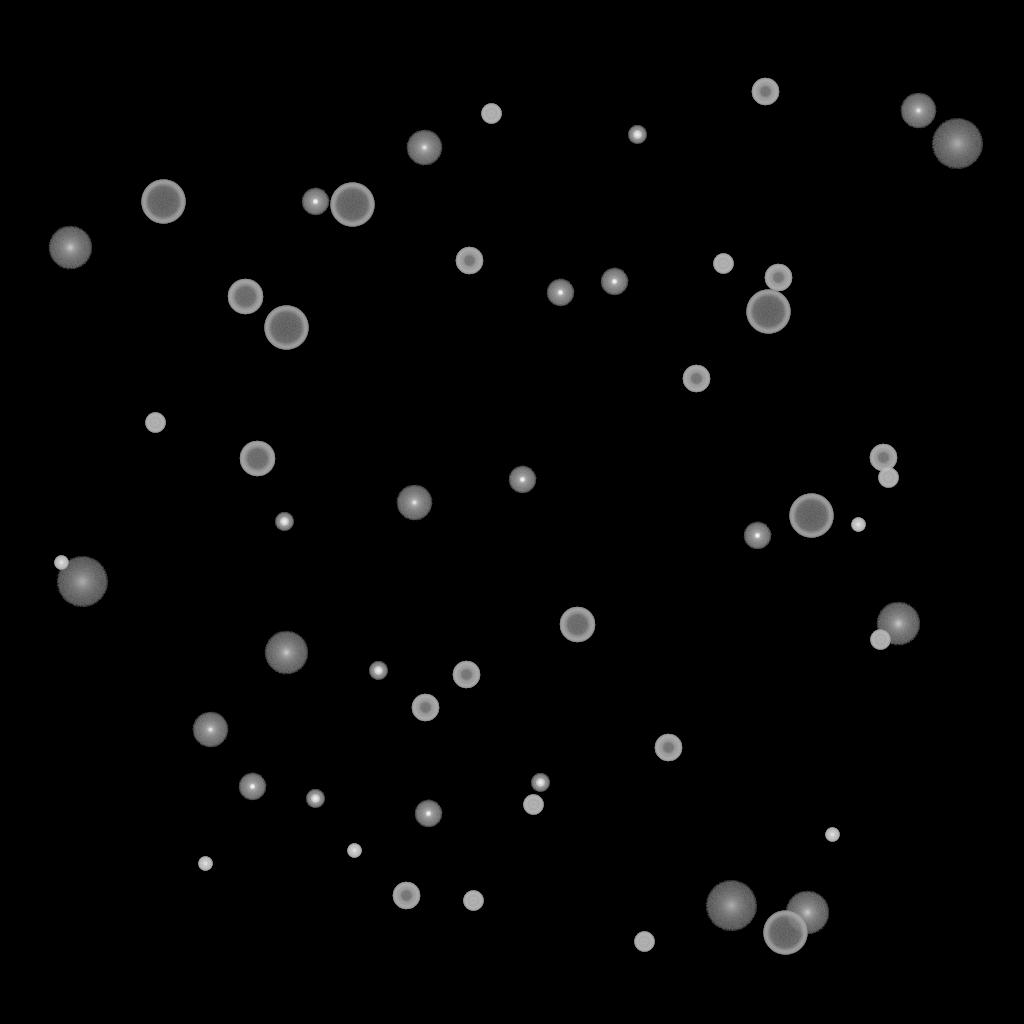depth:-10: (600, 268, 628, 296), (546, 279, 574, 307), (238, 773, 266, 801), (743, 522, 771, 550), (508, 466, 536, 494), (414, 800, 442, 828), (301, 188, 329, 216)
depth:-20: (275, 513, 293, 531), (531, 774, 549, 792), (306, 790, 324, 808), (628, 126, 646, 144), (369, 662, 387, 680)
depth:-30: (851, 518, 865, 532), (825, 828, 839, 842), (54, 556, 68, 570), (198, 857, 212, 871), (347, 844, 361, 858)
depth:-40: (870, 630, 890, 650), (463, 891, 483, 911), (145, 413, 165, 433), (634, 932, 654, 952), (481, 104, 501, 124), (713, 254, 733, 274), (523, 795, 543, 815), (878, 468, 898, 488)
depth:-50: (452, 661, 480, 689), (654, 734, 682, 762), (682, 365, 710, 393), (392, 882, 420, 910), (764, 264, 792, 292), (869, 444, 897, 472), (411, 694, 439, 722), (455, 247, 483, 275), (751, 78, 779, 106)
depth:-60: (239, 441, 275, 477), (559, 607, 595, 643), (227, 279, 263, 315)
depth:-70: (264, 306, 308, 350), (763, 911, 807, 955), (141, 180, 185, 224), (746, 290, 790, 334), (789, 494, 833, 538), (330, 183, 374, 227)
depth:0: (900, 93, 936, 129), (396, 485, 432, 521), (406, 130, 442, 166), (192, 712, 228, 748)
depth:10: (48, 226, 92, 270), (264, 631, 308, 675), (876, 602, 920, 646), (785, 891, 829, 935)
depth:20: (705, 881, 757, 931), (931, 119, 983, 169), (56, 557, 108, 607)
